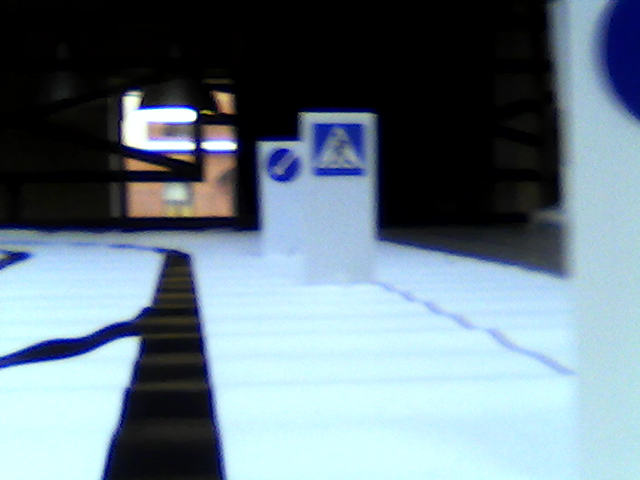pesh: (311, 122, 369, 178)
prep: (265, 145, 300, 182)
